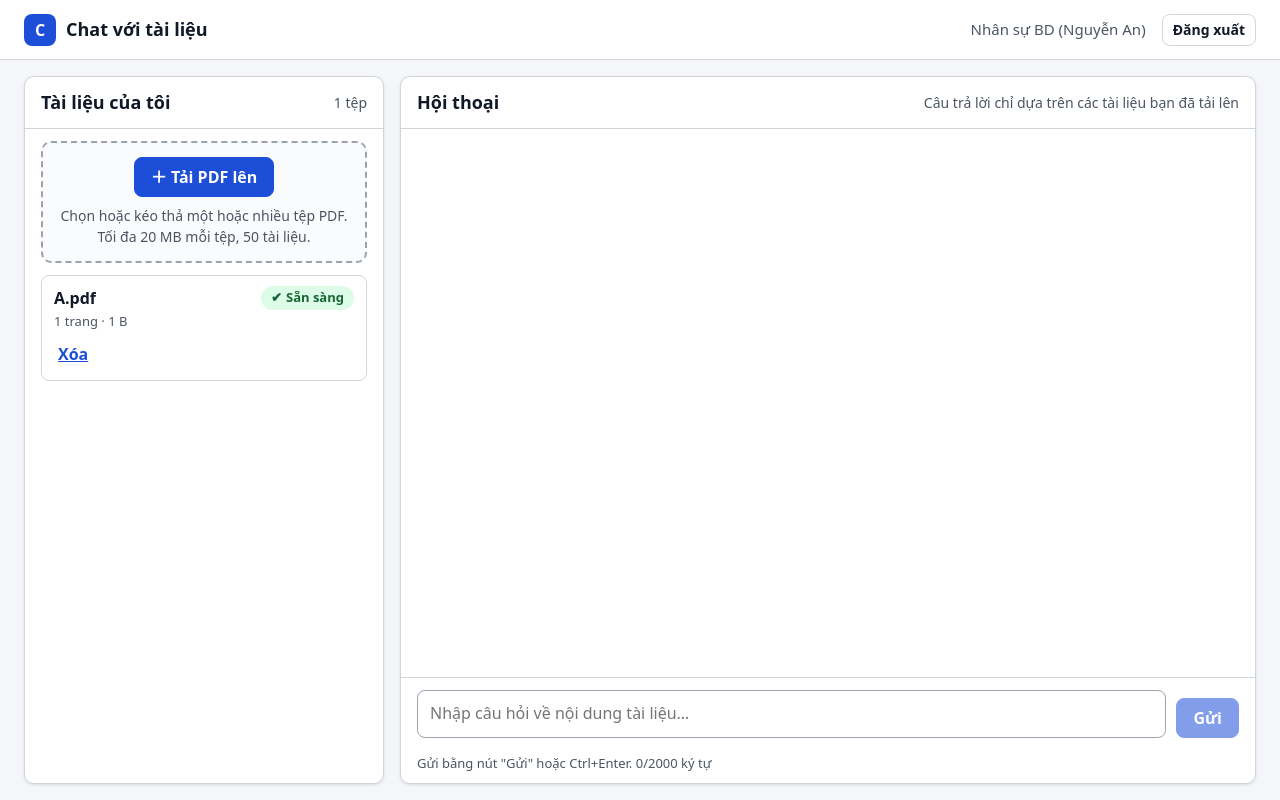
it: AuthGate (C-01) › 401 giữa phiên → về /login với thông báo hết phiên, câu hỏi đang soạn vẫn được giữ
Type "Điều khoản thanh toán?" into the text box labelled "Câu hỏi của bạn". click: (792, 714)
box: [417,690,1166,738]
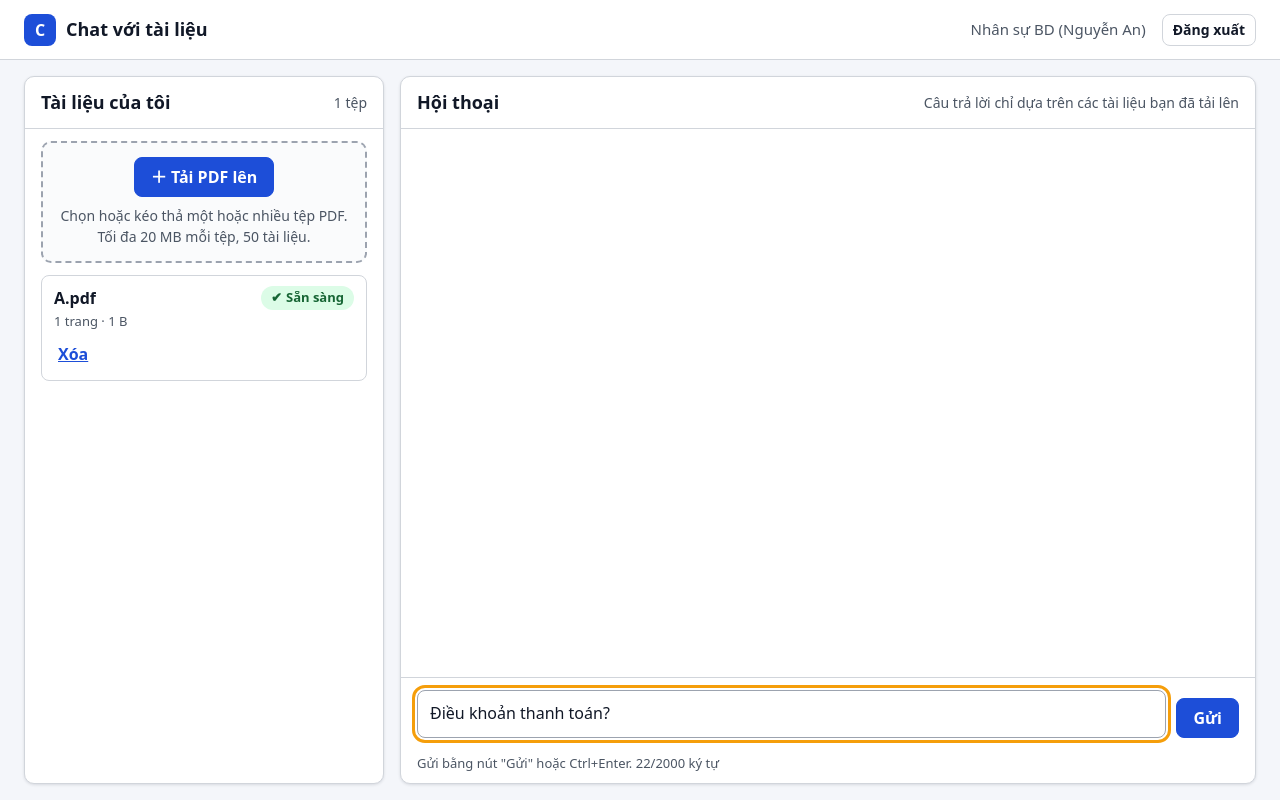
Click the button "Gửi". click: click(1208, 718)
box: [1176,698,1239,738]
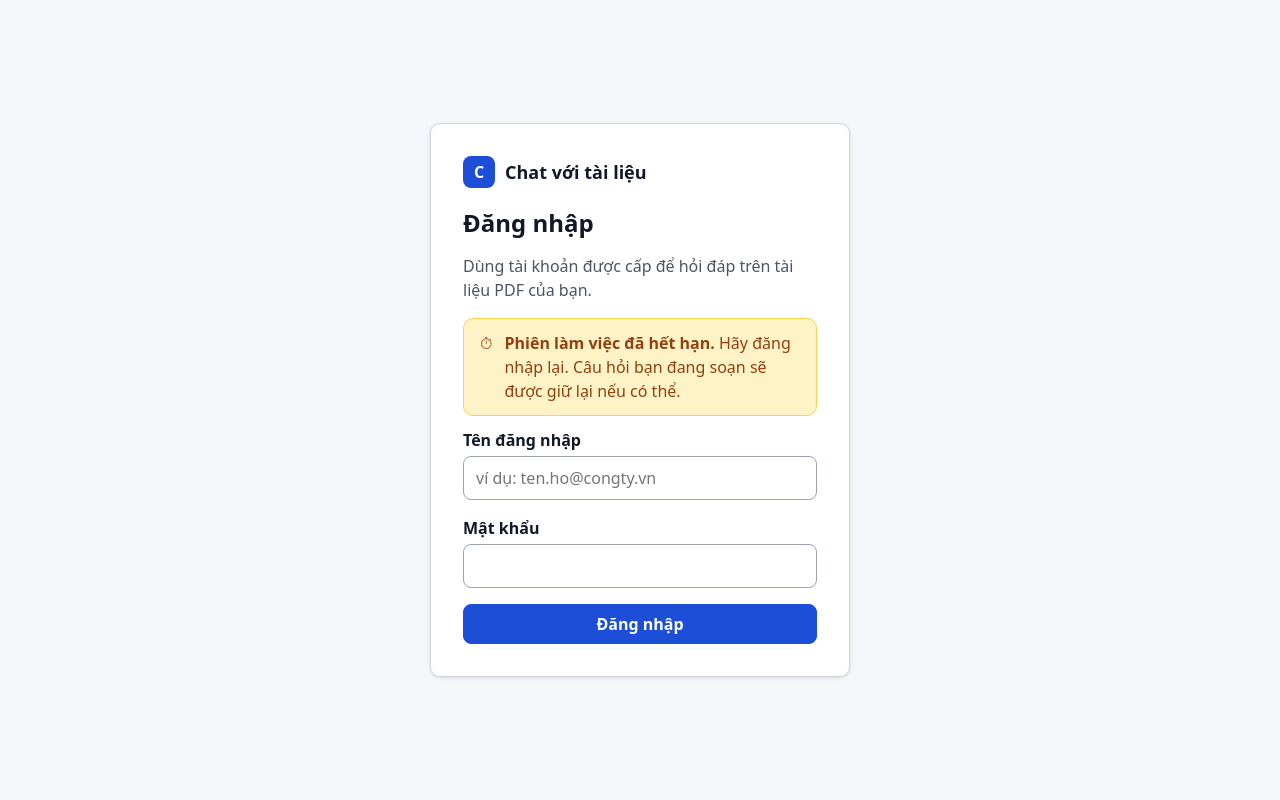
Now the text "Phiên làm việc đã hết hạn." is shown, box [504,332,715,354]
